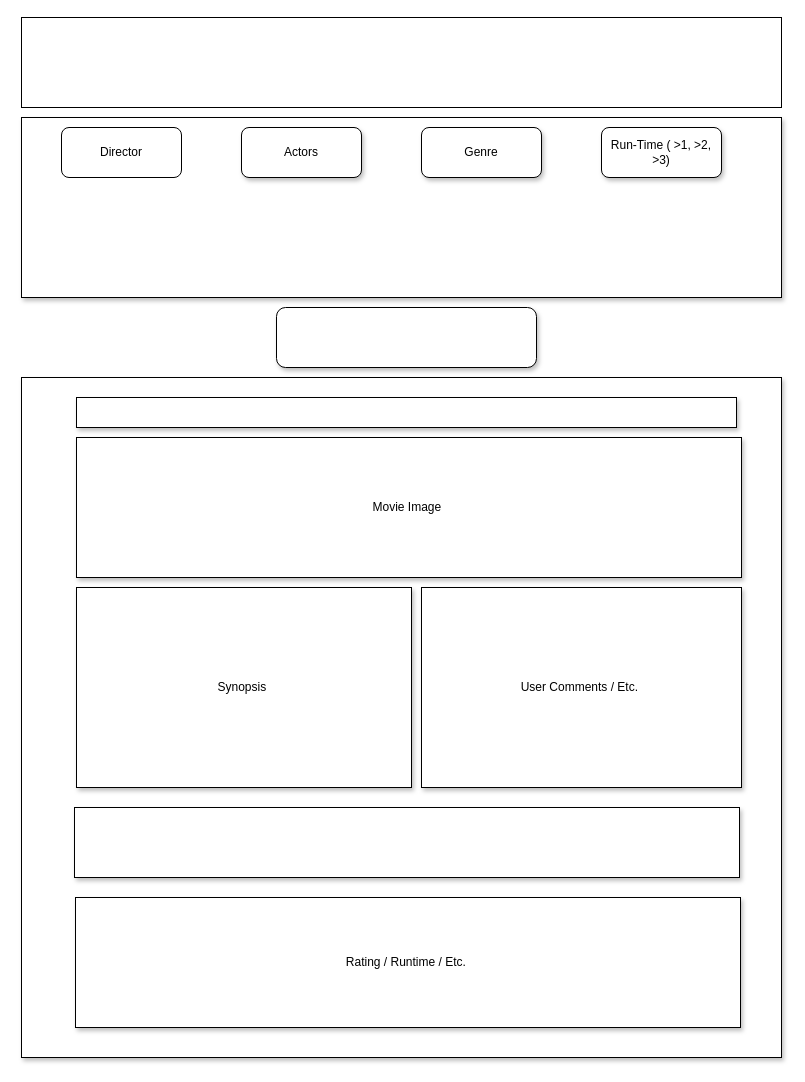
The diagram is 805 pixels wide and 1082 high, and some of its shapes have lost their labels. The shapes that lost their labels are listed below. From the top down, each one's centre as x and y in pixels, then its label:
pixel 401 62: Random Movie Generator - "RANDOM MOVIE QUOTE"
pixel 407 338: Run / Generate
pixel 407 413: Movie Title
pixel 408 843: Cast / Crew
